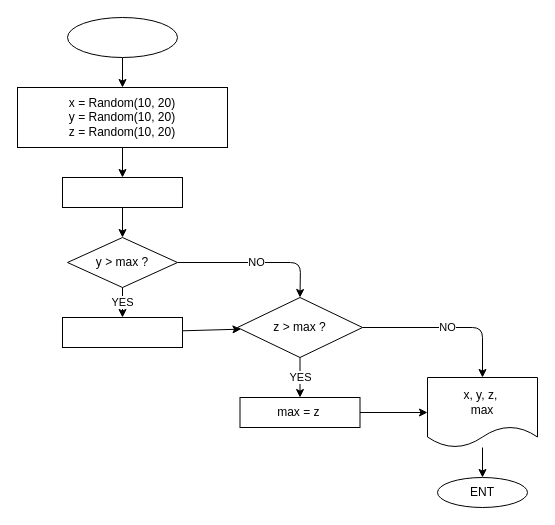
Some shapes in this 555 by 525 pixel diagram are drawn without their labels. Each missing label, with the centre of its shape:
"max = x" goes at [122,192].
"max = y" goes at [122,332].
"Start" goes at [122,37].
